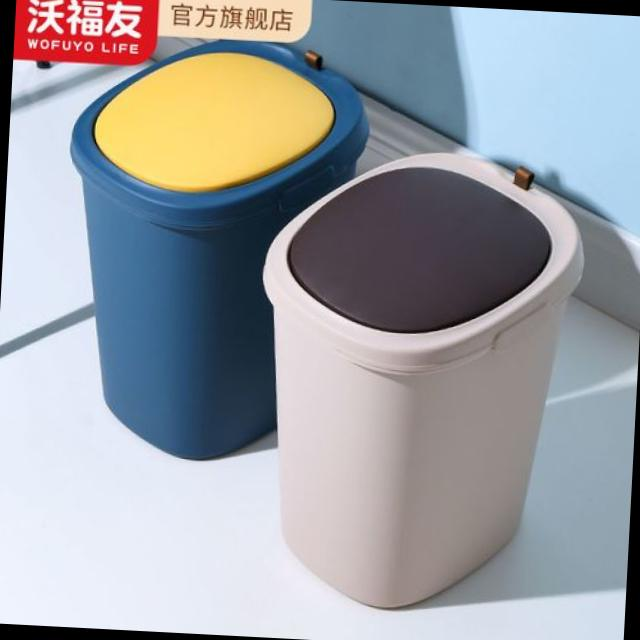dustbin: (242, 134, 594, 620), (49, 26, 374, 472)
